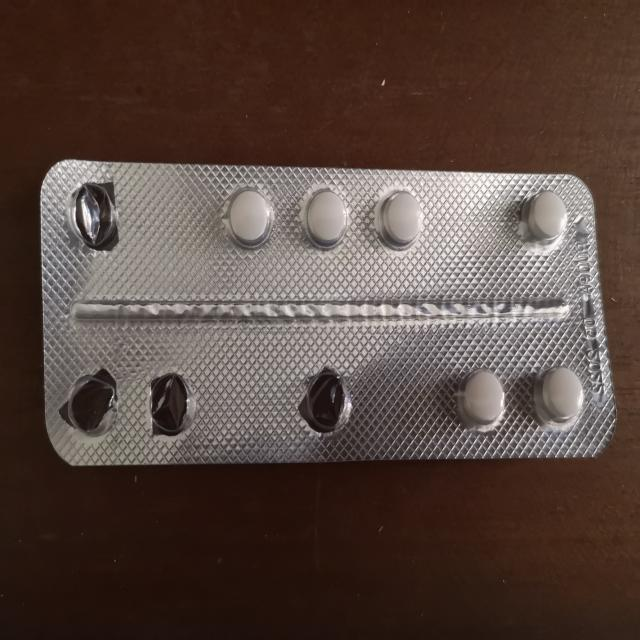Empty: (291, 361, 355, 438), (140, 367, 200, 443)
Pill: (217, 177, 277, 250), (455, 362, 511, 433), (295, 180, 351, 250), (374, 184, 425, 252), (536, 362, 586, 429), (522, 186, 572, 244)
